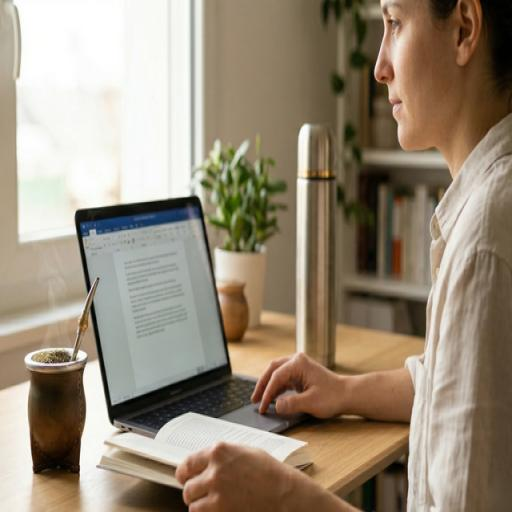mate: (25, 279, 99, 473)
termo: (296, 124, 337, 365)
